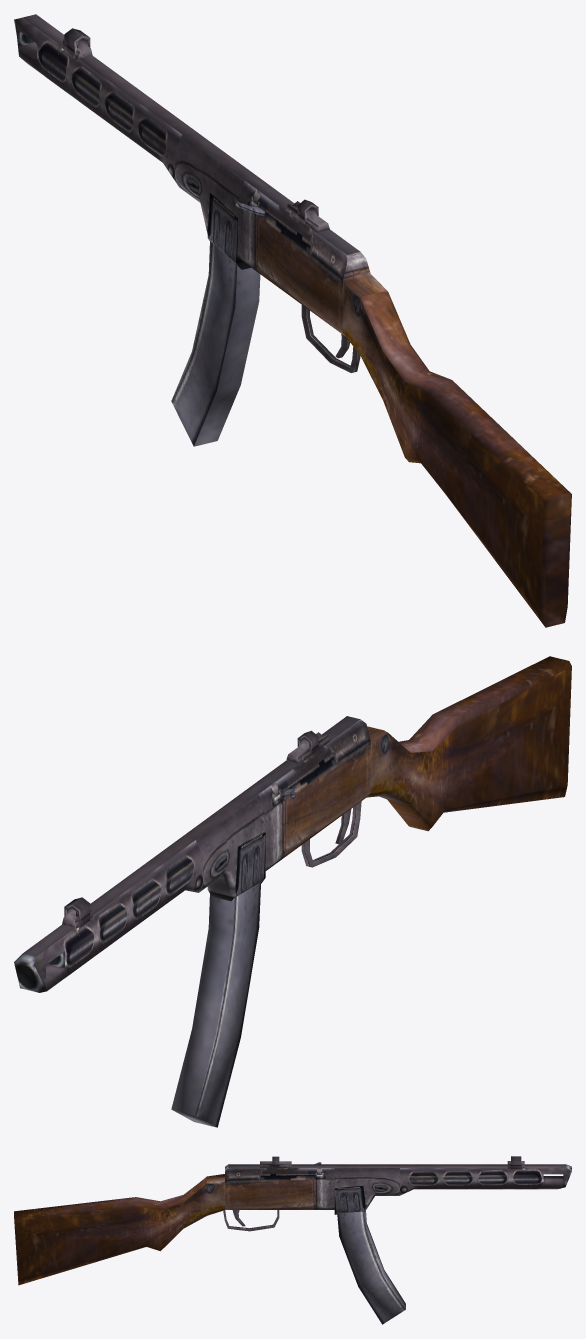
File: PPSH.fbx
3 renders of one model, top to bottom at view 1: azimuth 30°, elevation 25°; view 2: azimuth 150°, elevation 25°; view 3: azimuth 270°, elevation 25°, orthographic. The views are drawn at different scales.
Visible parts, largest first — view 1: PPSH, Mag, Trigger Guard, Back Sight; view 2: PPSH, Mag, Trigger Guard, Back Sight, Front Sight; view 3: PPSH, Mag, Trigger Guard, Back Sight.
Part boxes in pixels (left/top/right/bottom): PPSH: left=14, top=14, right=571, bottom=627; Mag: left=171, top=241, right=260, bottom=446; Trigger Guard: left=301, top=305, right=360, bottom=372; Back Sight: left=286, top=199, right=329, bottom=232; PPSH: left=14, top=656, right=571, bottom=992; Mag: left=171, top=882, right=260, bottom=1127; Trigger Guard: left=301, top=801, right=361, bottom=867; Back Sight: left=286, top=730, right=329, bottom=763; Front Sight: left=62, top=897, right=92, bottom=928; PPSH: left=14, top=1164, right=571, bottom=1285; Mag: left=337, top=1211, right=405, bottom=1324; Trigger Guard: left=223, top=1210, right=279, bottom=1231; Back Sight: left=260, top=1156, right=291, bottom=1167.
Bounding box in the file's own units: 21.21 × 151 × 461.
Materials: 1 (1 with a texture image).
